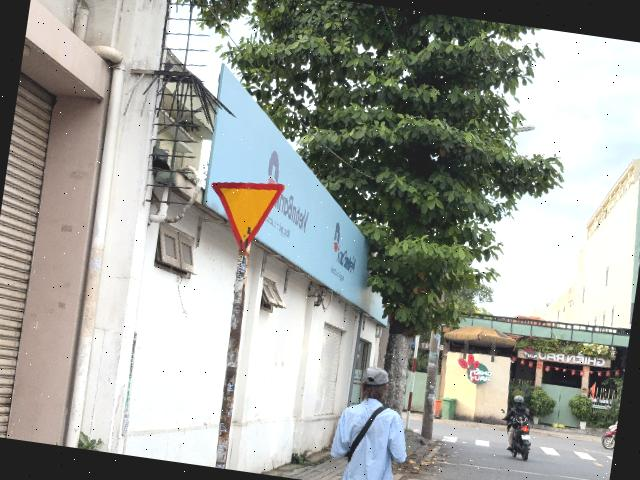giao-nhau-voi-duong-uu-tien: (203, 174, 286, 256)
